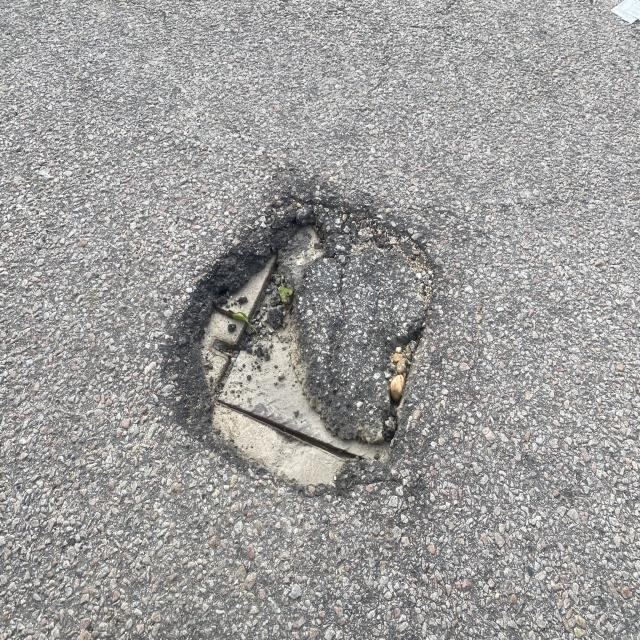Pothole: (145, 148, 484, 518)
